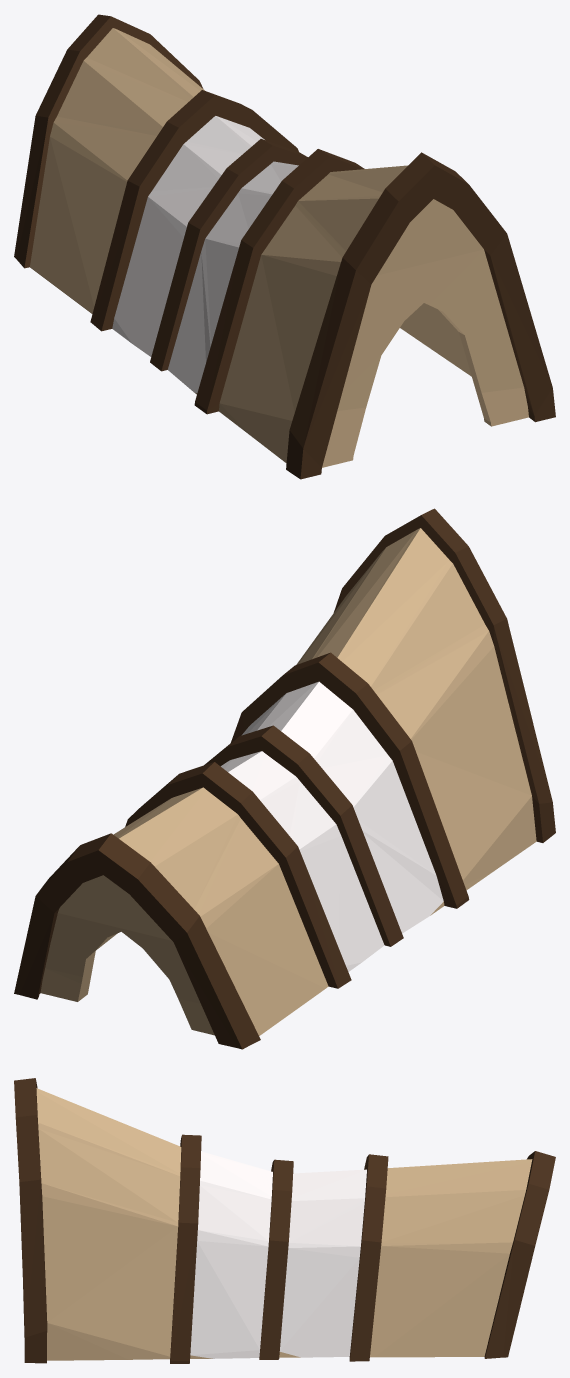
File: Tribal_Plains_Tent_Hide_Wood_Timber_Large_01.fbx
The picture shows the model from 3 angles, top to bottom: view 1: azimuth 30°, elevation 25°; view 2: azimuth 150°, elevation 25°; view 3: azimuth 270°, elevation 25°; orthographic projection. The views are drawn at different scales.
Parts seen in each view (by area): view 1: Tribal_Plains_Tent_Hide_Wood_Timber_Large_01; view 2: Tribal_Plains_Tent_Hide_Wood_Timber_Large_01; view 3: Tribal_Plains_Tent_Hide_Wood_Timber_Large_01.
Boxes of the visible parts, left/top/right/bottom form: Tribal_Plains_Tent_Hide_Wood_Timber_Large_01: left=14, top=14, right=555, bottom=479; Tribal_Plains_Tent_Hide_Wood_Timber_Large_01: left=14, top=508, right=555, bottom=1049; Tribal_Plains_Tent_Hide_Wood_Timber_Large_01: left=14, top=1078, right=555, bottom=1363.
Bounding box in the file's own units: 10.13 × 10.77 × 22.55.
